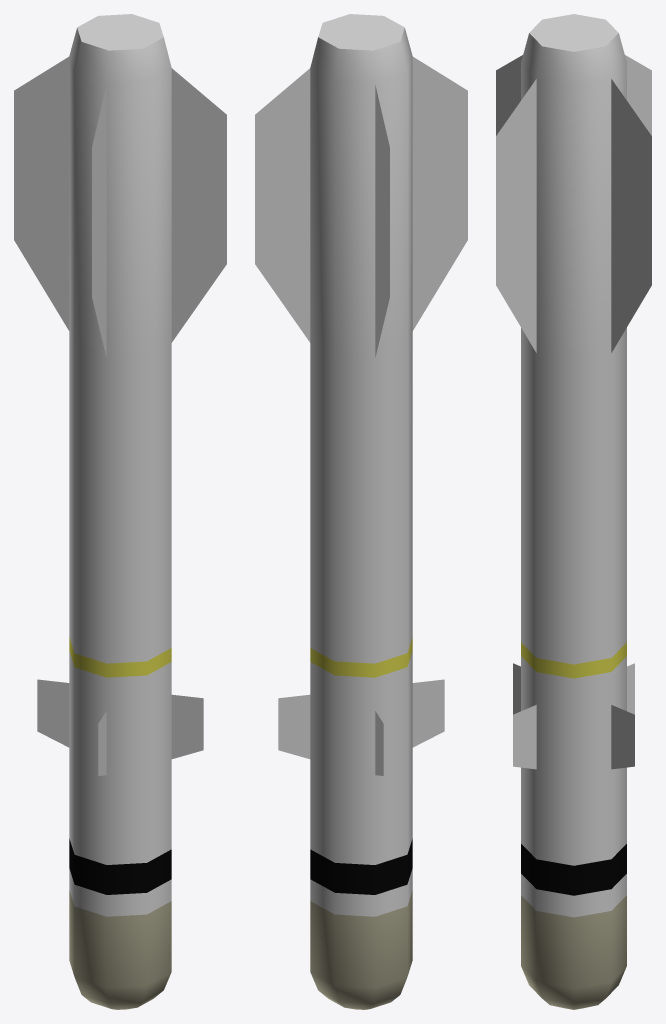
File: mbda-brimstone.glb
3 renders of one model, left to right at view 1: azimuth 30°, elevation 25°; view 2: azimuth 150°, elevation 25°; view 3: azimuth 270°, elevation 25°, orthographic.
Visible parts, largest first — view 1: MBDA Brimstone; view 2: MBDA Brimstone; view 3: MBDA Brimstone.
Part boxes in pixels (left/top/right/bottom): MBDA Brimstone: left=14, top=14, right=226, bottom=1009; MBDA Brimstone: left=255, top=14, right=467, bottom=1009; MBDA Brimstone: left=496, top=14, right=651, bottom=1009.
Bounding box in the file's own units: 0.3485 × 2.4 × 0.3485.
